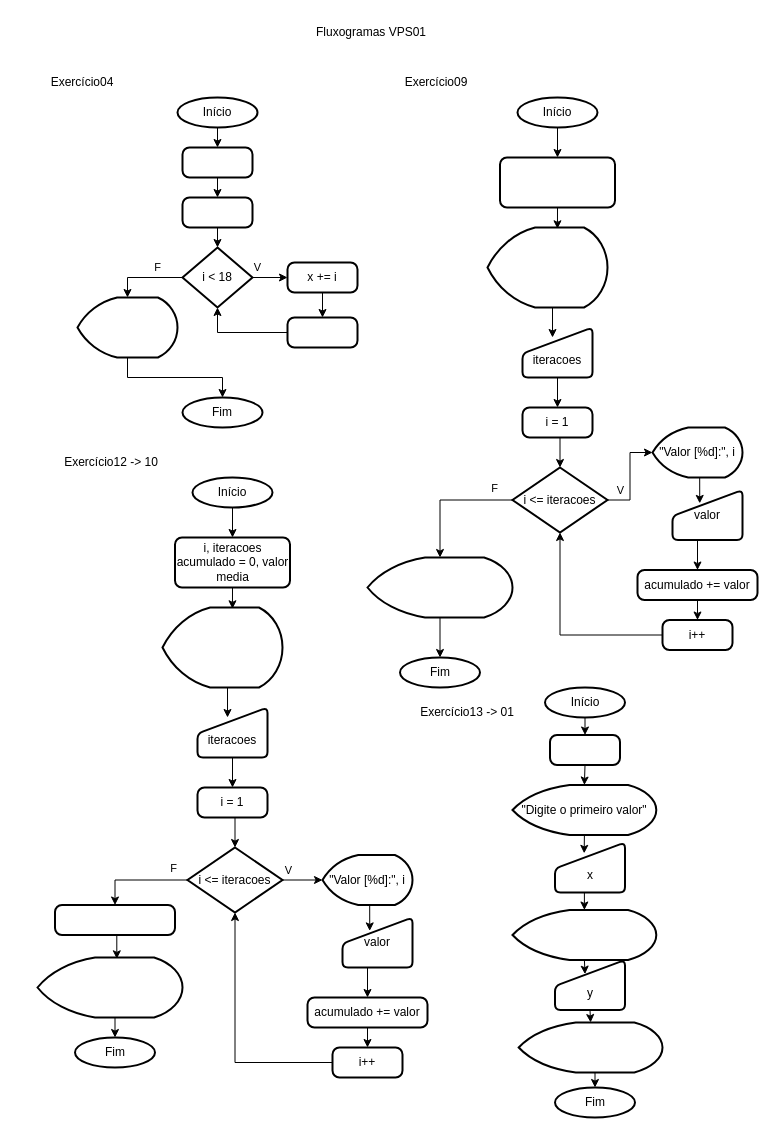
This 775x1135 diagram has some shape labels left out. Here are the shapes that lost their labels. From the top down, the box of each, then its label:
(181, 146, 253, 178): x = 0, i
(498, 156, 616, 208): i, iteracoes acumulado = 0, valor
(181, 196, 253, 228): i = 0
(486, 226, 608, 308): "Digite quantos números deseja somar"
(76, 296, 178, 358): "Acumulador = %d", x
(286, 316, 358, 348): i+=2
(366, 556, 513, 618): "O total é = %.2f", acumulado
(161, 606, 283, 688): "Digite quantos números deseja calcular a média"
(548, 734, 620, 766): x, y
(54, 904, 176, 936): media = acumulado / iteracoes
(511, 908, 657, 960): "Digite o segundo valor"
(36, 956, 183, 1018): "O total é = %.2f", media
(517, 1021, 663, 1073): "O resultado da soma é: %d", x + y
